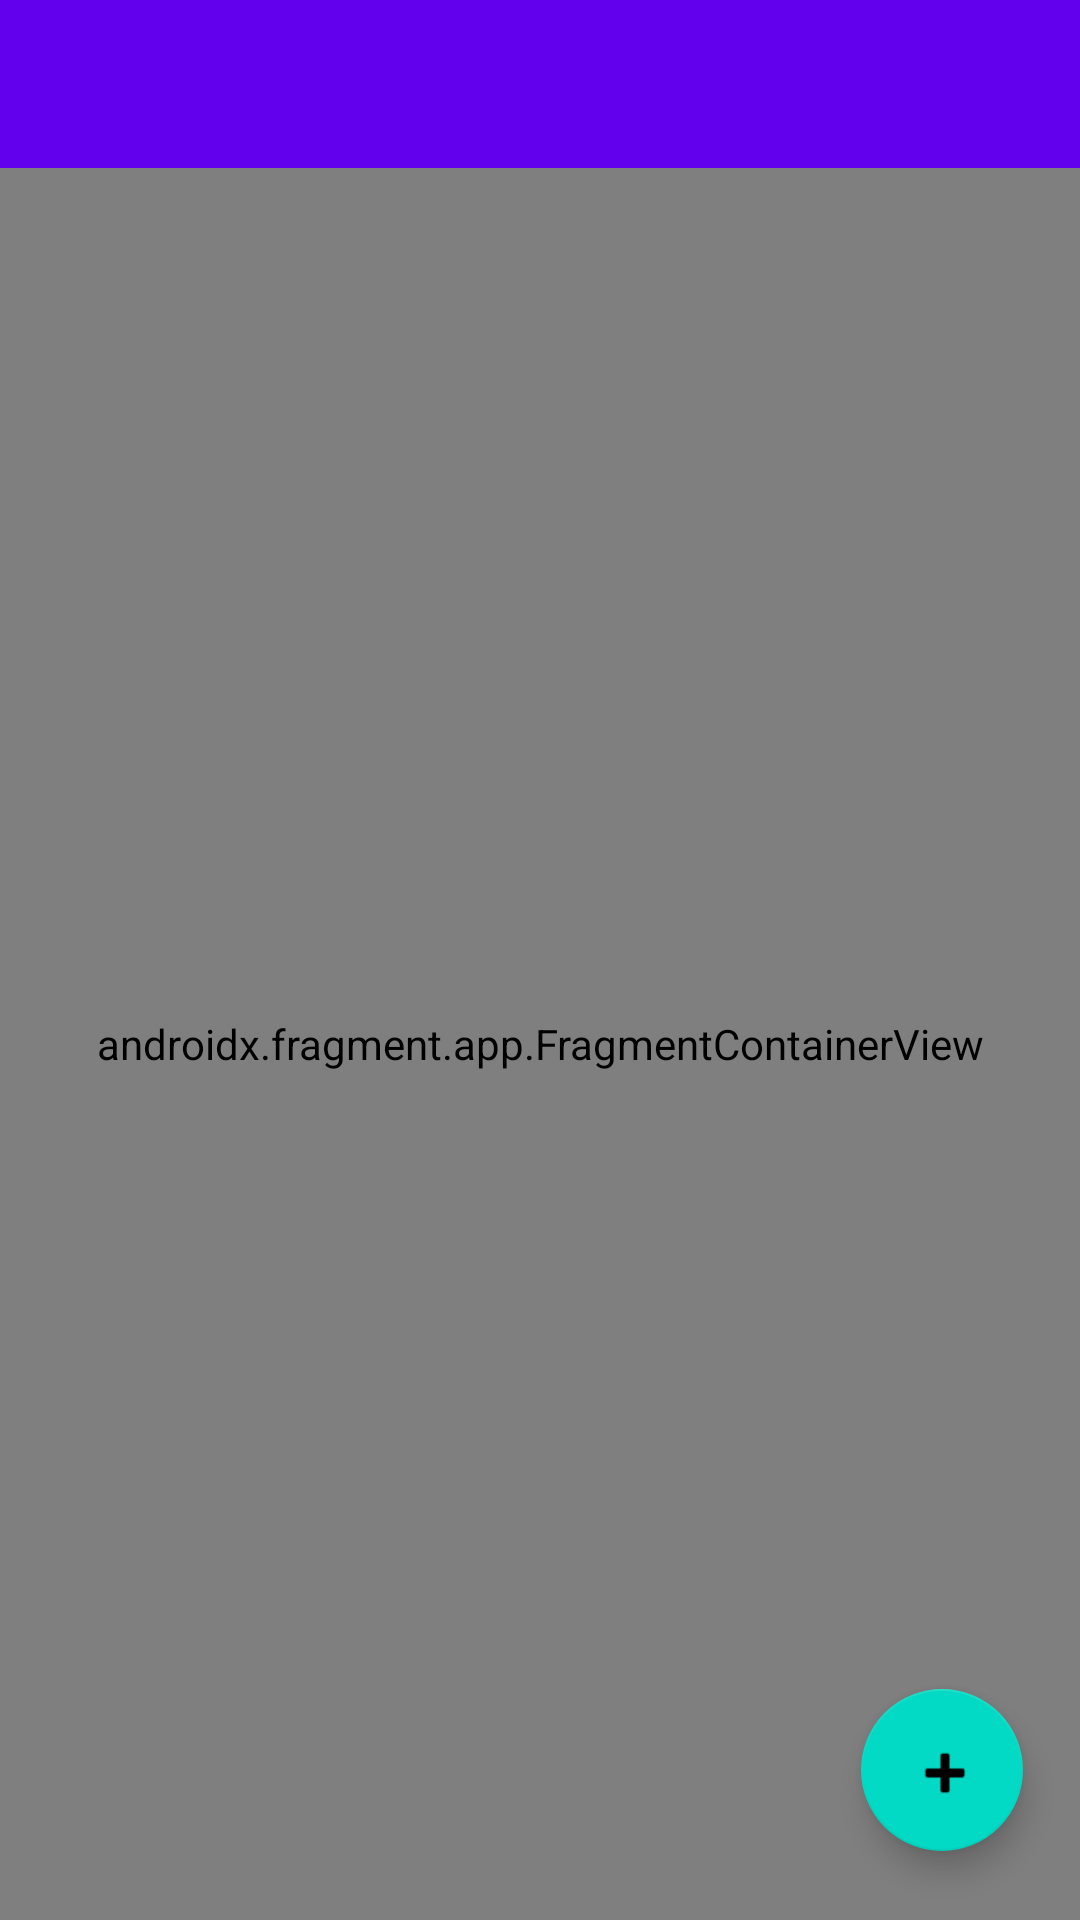

Icon bounding boxes for this 1080 × 1920 phone screenshot, format Rect(x1, y1, x2, y2):
add: Rect(861, 1689, 1023, 1851)
